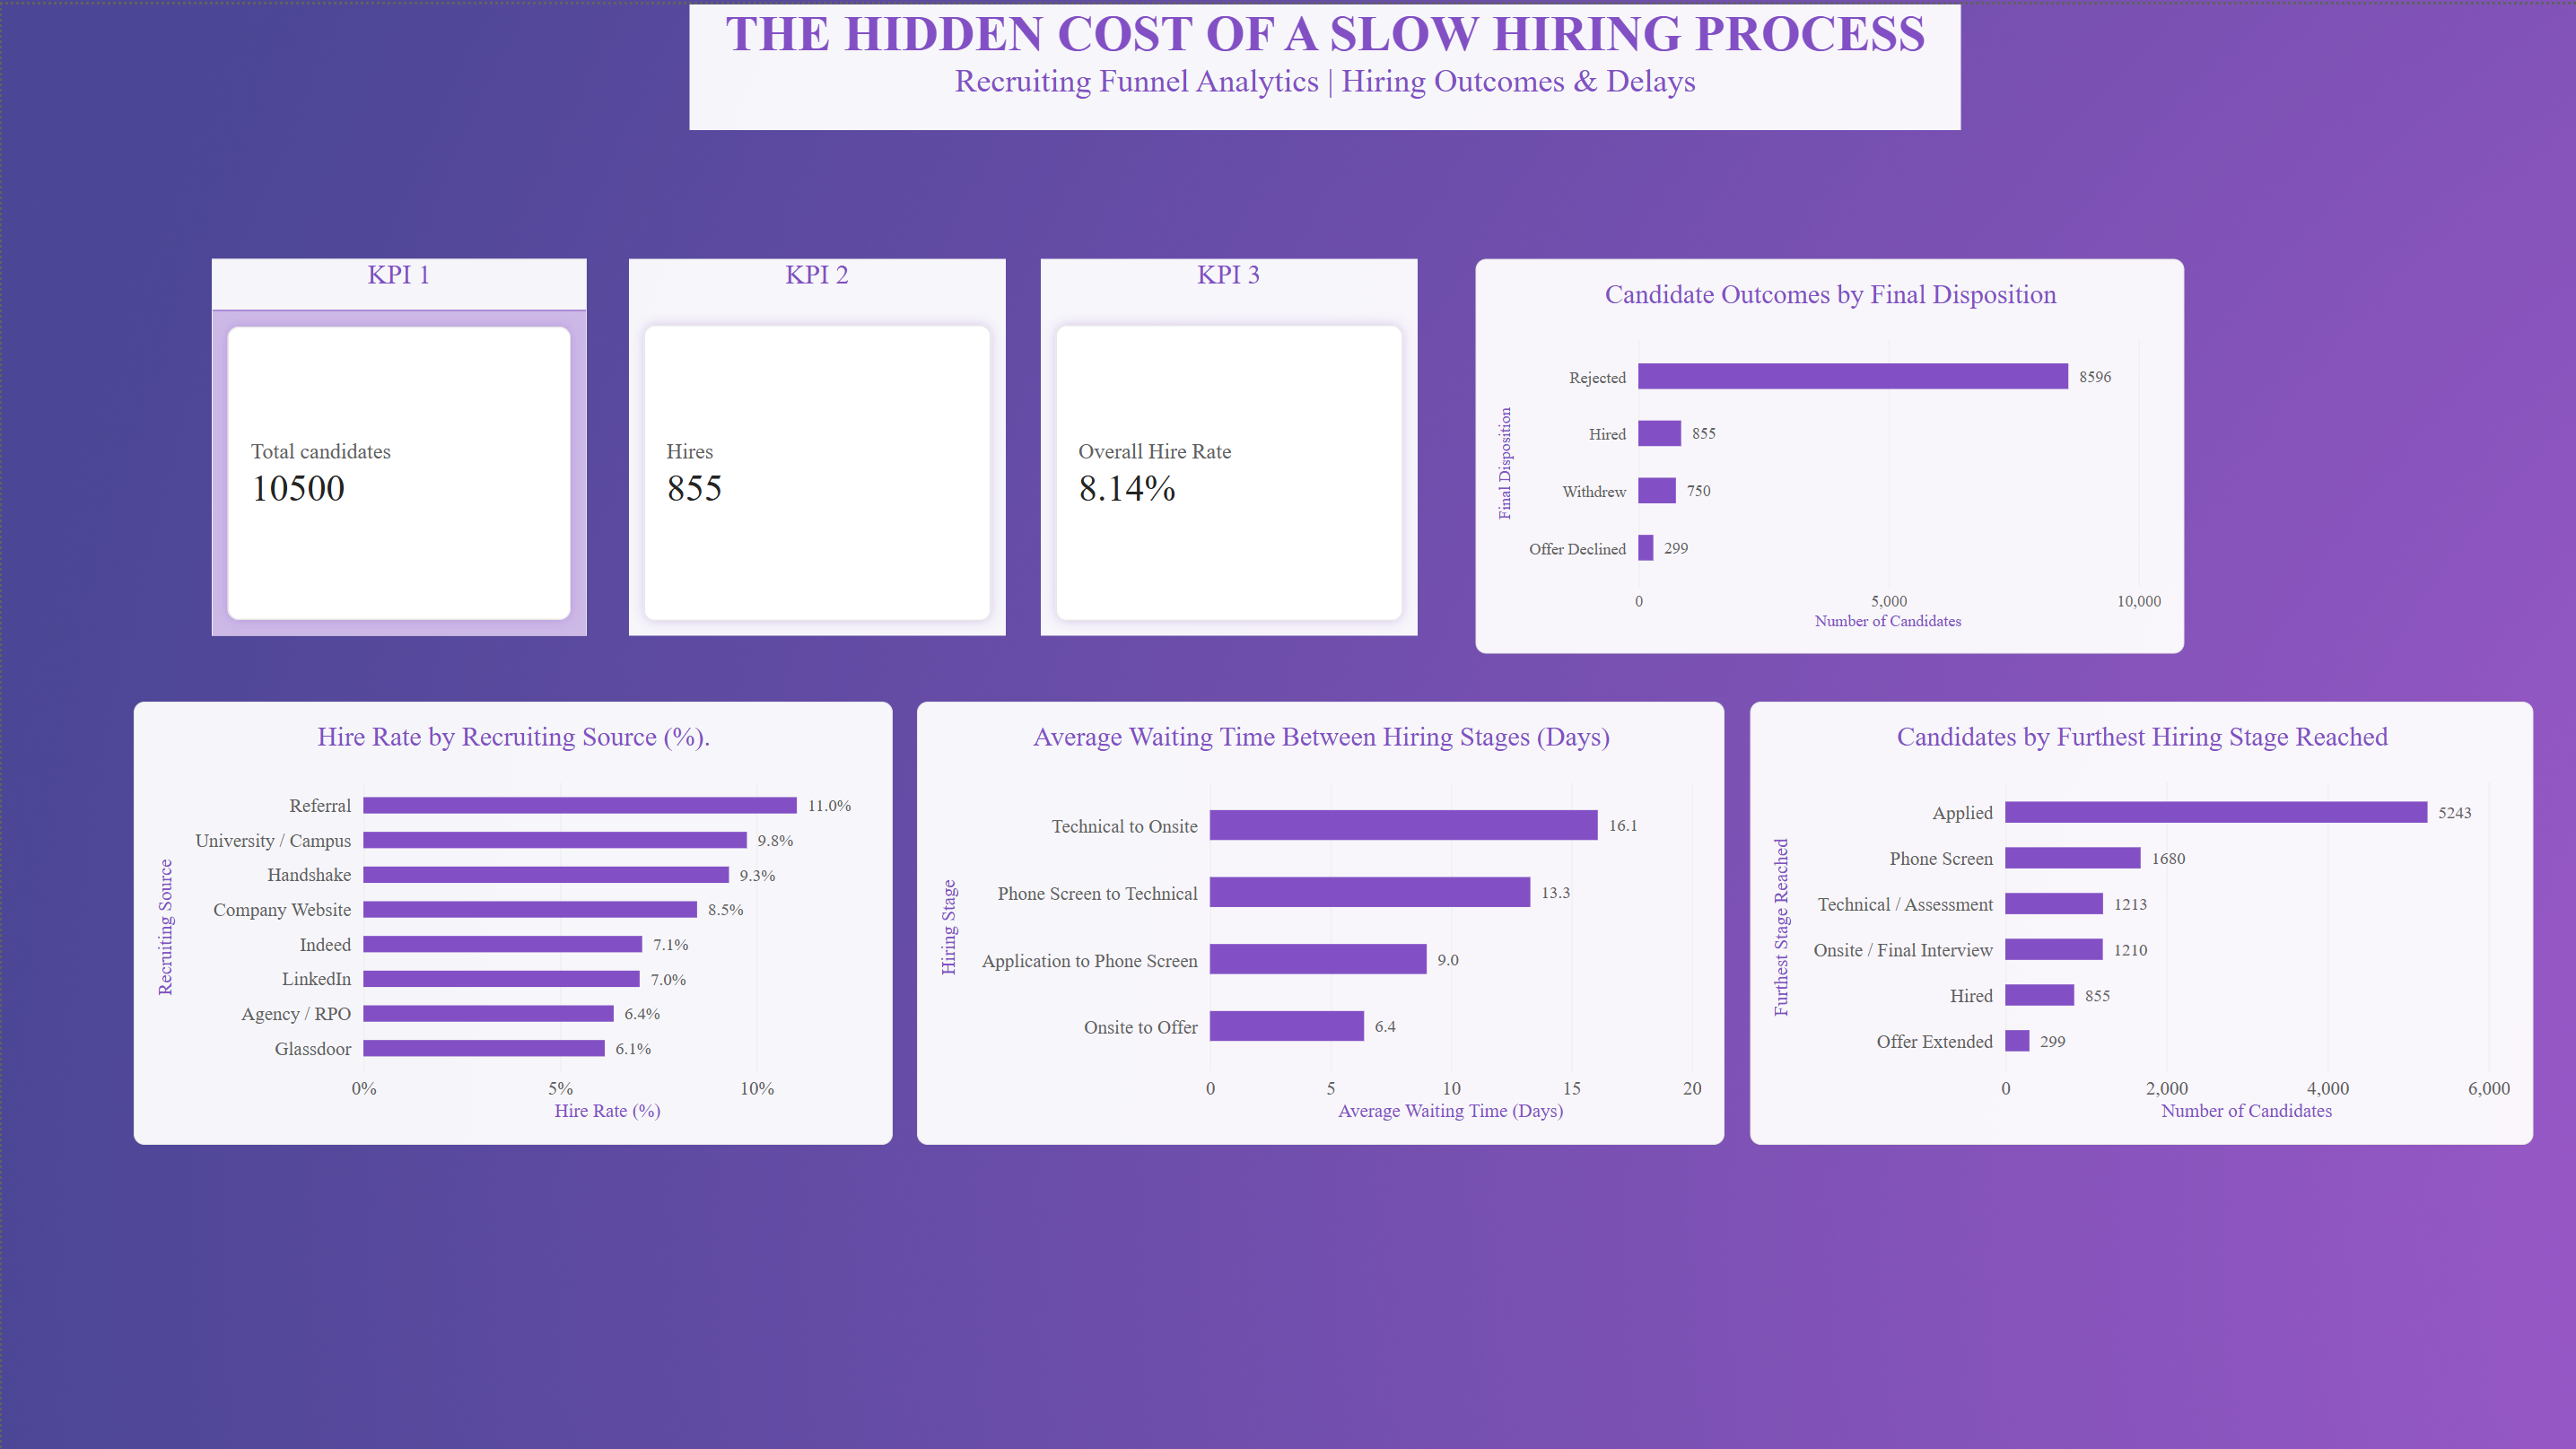

What the dashboard file says about the page in this screenshot:
{"tool":"powerbi","page":{"name":"Page 1","canvas":[1920,1080],"ordinal":0},"visuals":[{"type":"cardVisual","title":"KPI 1","fields":{"Data":["CountNonNull(recruiting_funnel_data.candidate_id)"]},"box":[155.8,189.3,279.6,279.6],"z":0},{"type":"cardVisual","title":"KPI 2","fields":{"Data":["CountNonNull(recruiting_funnel_data.candidate_id)"]},"box":[465.6,189.3,280,280],"z":1},{"type":"cardVisual","title":"KPI 3","fields":{"Data":["recruiting_funnel_data.Overall Hire Rate"]},"box":[771.7,189.3,280,280],"z":2},{"type":"barChart","title":"Candidate Outcomes by Final Disposition","fields":{"Category":["recruiting_funnel_data.final_disposition"],"Y":["CountNonNull(recruiting_funnel_data.candidate_id)"]},"box":[1094.9,189.3,527.1,292.7],"z":3},{"type":"clusteredBarChart","title":"Candidates by Furthest Hiring Stage Reached","fields":{"Category":["recruiting_funnel_data.stage_reached"],"Y":["CountNonNull(recruiting_funnel_data.candidate_id)"]},"box":[1298.8,518.3,582.4,329.1],"z":4},{"type":"clusteredBarChart","title":"Average Waiting Time Between Hiring Stages (Days)","fields":{"Category":["Stage Duration Summary.Hiring Stage"],"Y":["Sum(Stage Duration Summary.Average Days)"]},"box":[680,518.3,599.9,329.1],"z":7},{"type":"clusteredBarChart","title":"Hire Rate by Recruiting Source (%).","fields":{"Category":["recruiting_funnel_data.source"],"Y":["recruiting_funnel_data.Hire Rate by Source"]},"box":[97.6,518.3,564.9,329.1],"z":8},{"type":"textbox","box":[511.1,0,945,93.2],"z":9}]}

Visuals, with their boxes in screenshot pixels (x1, y1, x2, y2), scaled from the page's 1920x1080 canvas onto the 2576x1449 screenshot:
"KPI 1" cardVisual: 209/254/584/629
"KPI 2" cardVisual: 624/254/1000/630
"KPI 3" cardVisual: 1035/254/1411/630
"Candidate Outcomes by Final Disposition" barChart: 1469/254/2176/647
"Candidates by Furthest Hiring Stage Reached" clusteredBarChart: 1742/695/2524/1137
"Average Waiting Time Between Hiring Stages (Days)" clusteredBarChart: 913/695/1717/1137
"Hire Rate by Recruiting Source (%)." clusteredBarChart: 131/695/889/1137
textbox: 685/0/1953/125
